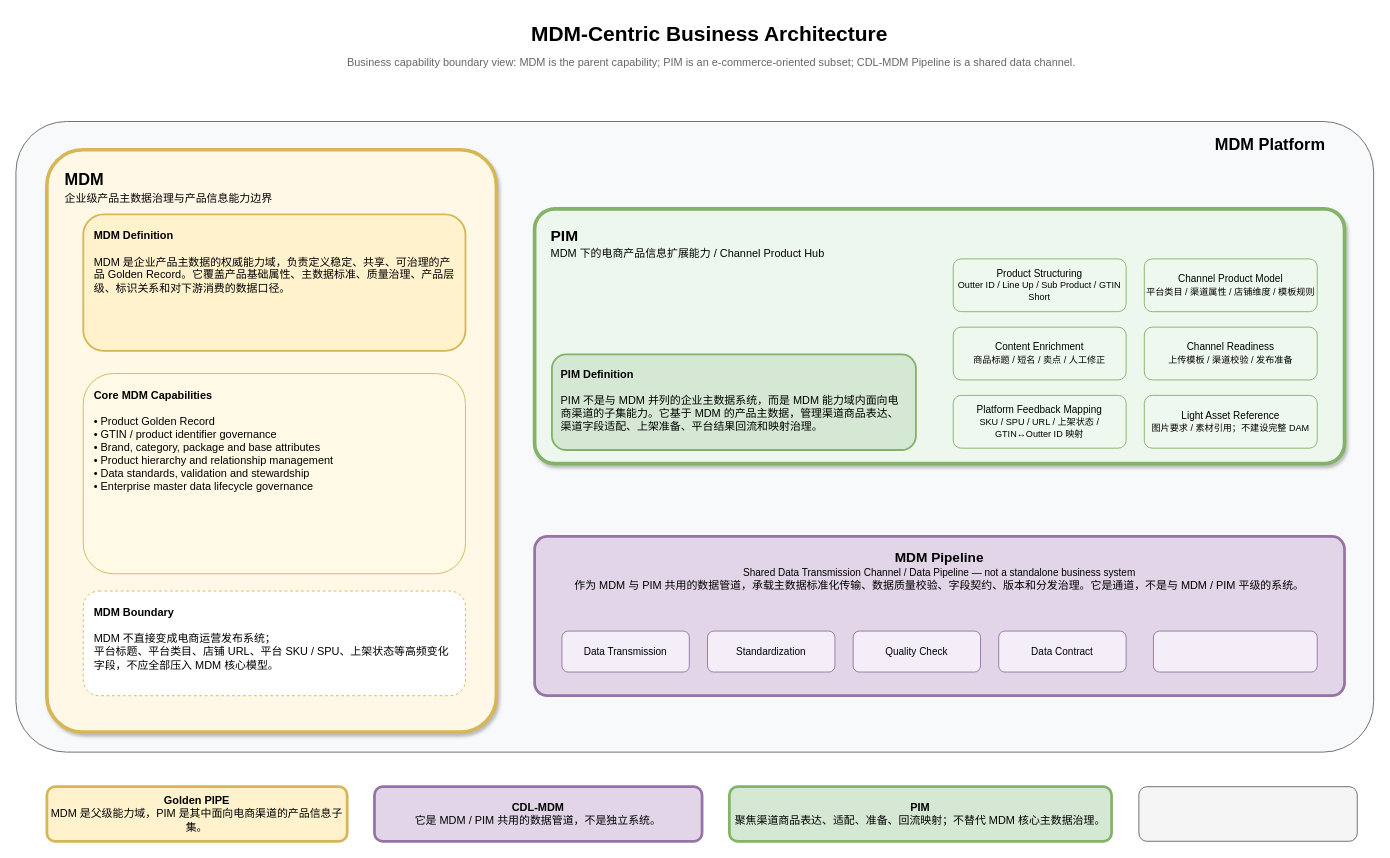
This 1390x858 diagram has some shape labels left out. The shapes that lost their labels are listed below. From the top down, each one's centre as x and y in pixels, then its label:
At point 1235,651: "Version & Distribution".
At point 1247,813: "Diagram Intent 业务架构能力边界图用集成。".
